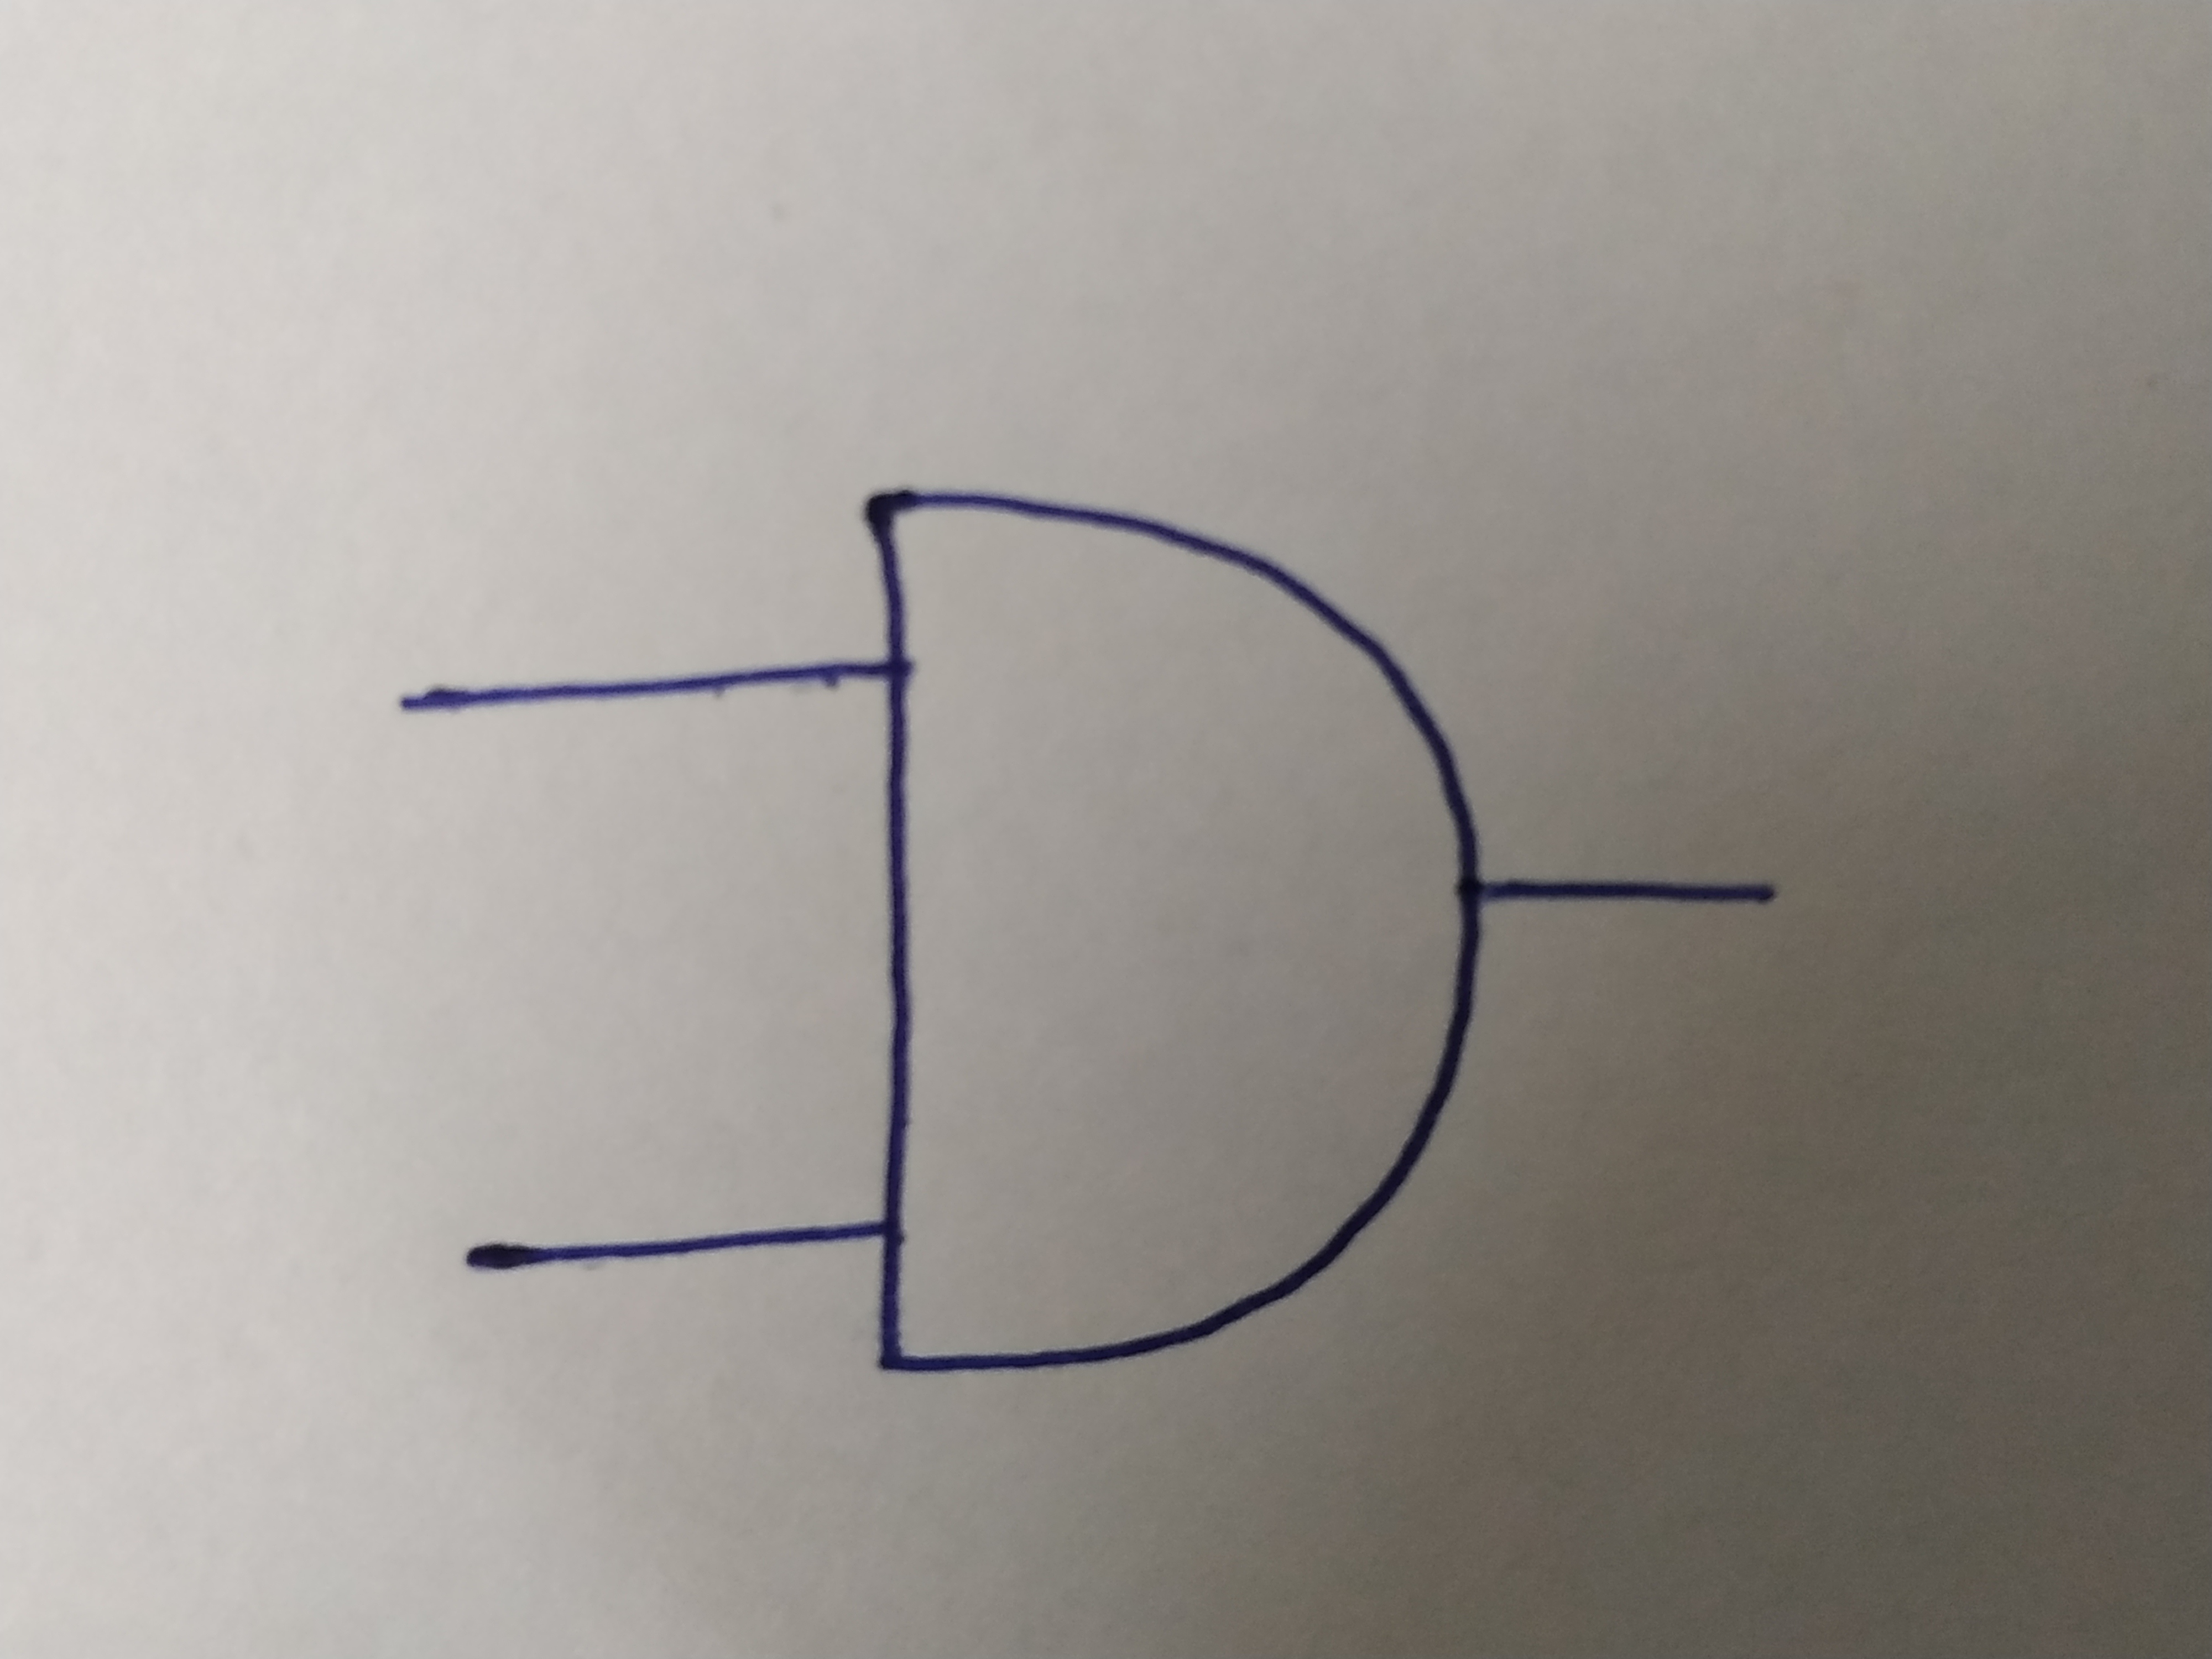and: (869, 497, 1491, 1370)
